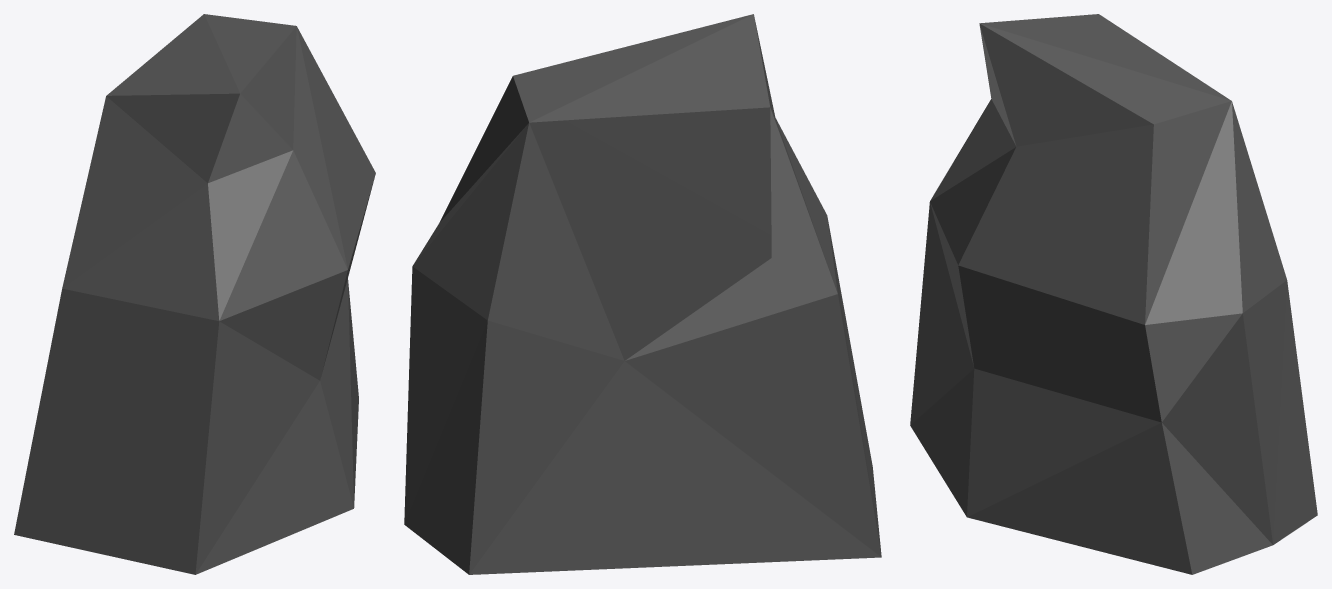
The model's file is rock_18.fbx.
3 renders of one model, left to right at view 1: azimuth 30°, elevation 25°; view 2: azimuth 150°, elevation 25°; view 3: azimuth 270°, elevation 25°, orthographic. The views are drawn at different scales.
Parts seen in each view (by area): view 1: rock_18; view 2: rock_18; view 3: rock_18.
Boxes of the visible parts, x1,y1,x2,y2 form: rock_18: [14, 14, 375, 574]; rock_18: [404, 14, 881, 574]; rock_18: [910, 14, 1317, 574].
Size of the model in its own units: 153 by 161 by 135.
